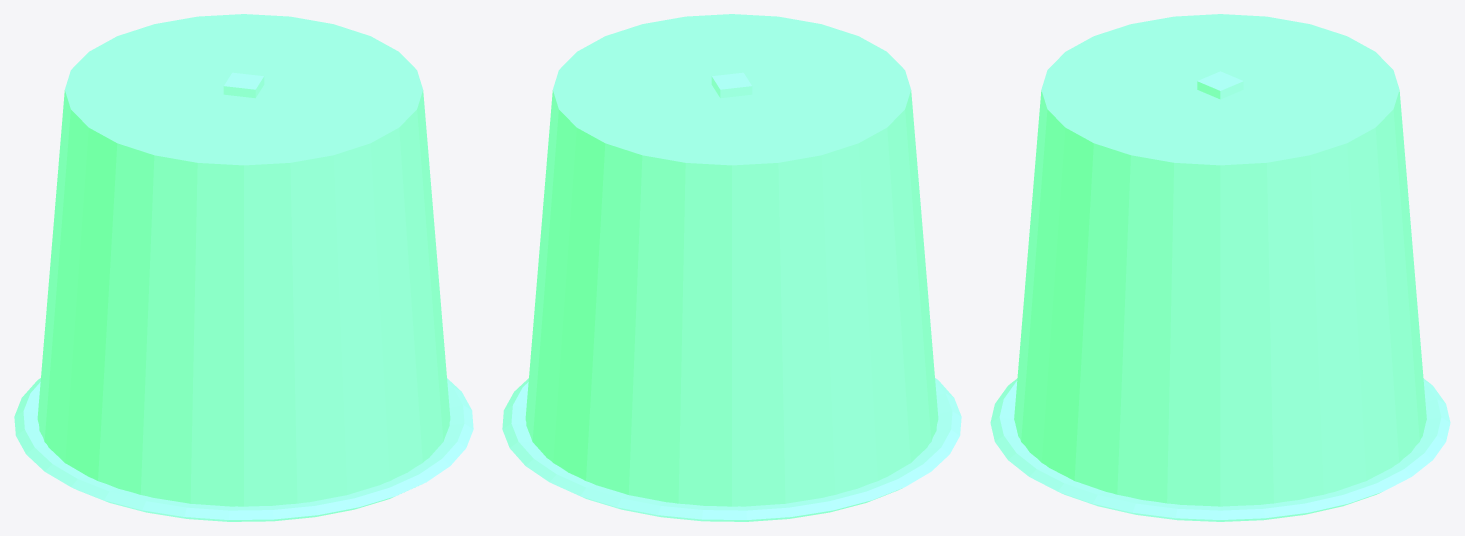
The model's file is marker_pickup.glb.
3 views of the same model, side by side, from view 1: azimuth 30°, elevation 25°; view 2: azimuth 150°, elevation 25°; view 3: azimuth 270°, elevation 25° (orthographic).
Parts seen in each view (by area): view 1: marker_pickup, icon; view 2: marker_pickup, icon; view 3: marker_pickup, icon.
Part boxes in pixels (x1,y1,x2,y2): marker_pickup: (14,14,473,521); icon: (223,72,264,98); marker_pickup: (502,14,961,521); icon: (711,72,752,98); marker_pickup: (990,14,1450,521); icon: (1197,71,1243,99).
Size of the model in its own units: 4.88 by 4.1 by 4.88.
